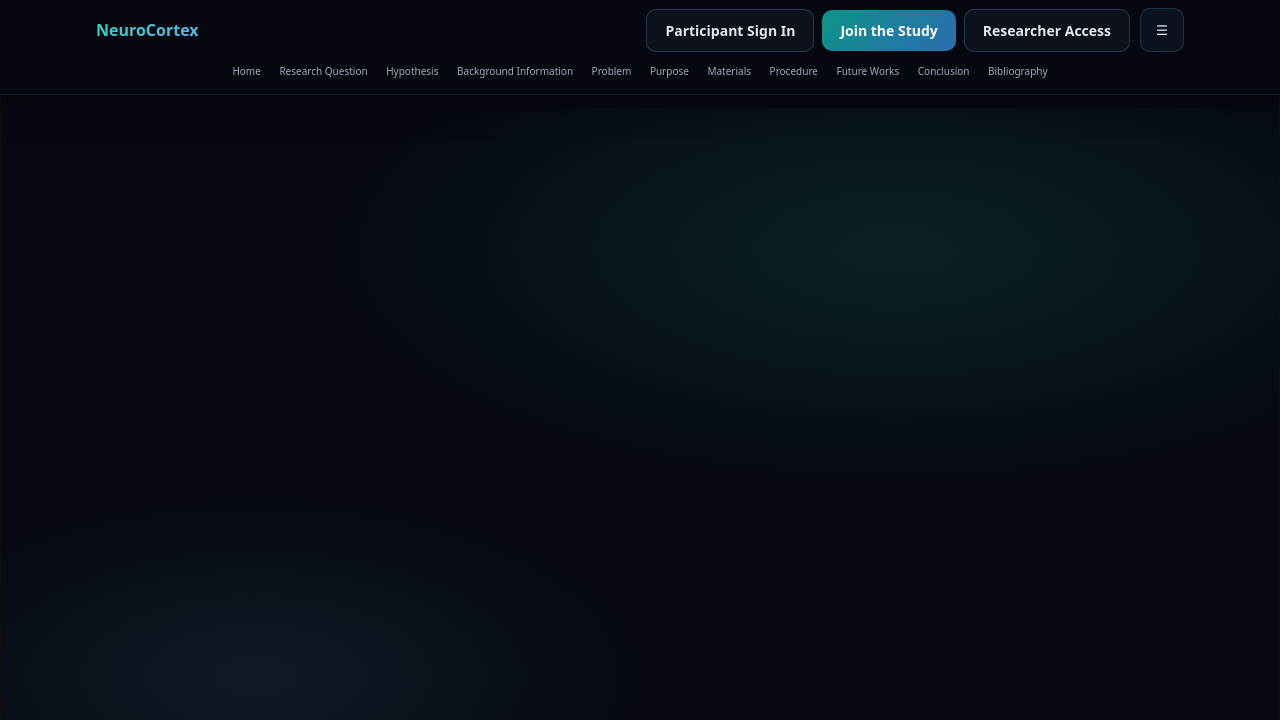
App routing › navigates Researcher Access to /researcher/sign-in
Click the button "Researcher Access": (1047, 30) [964, 8, 1130, 52]
(page scrolled)
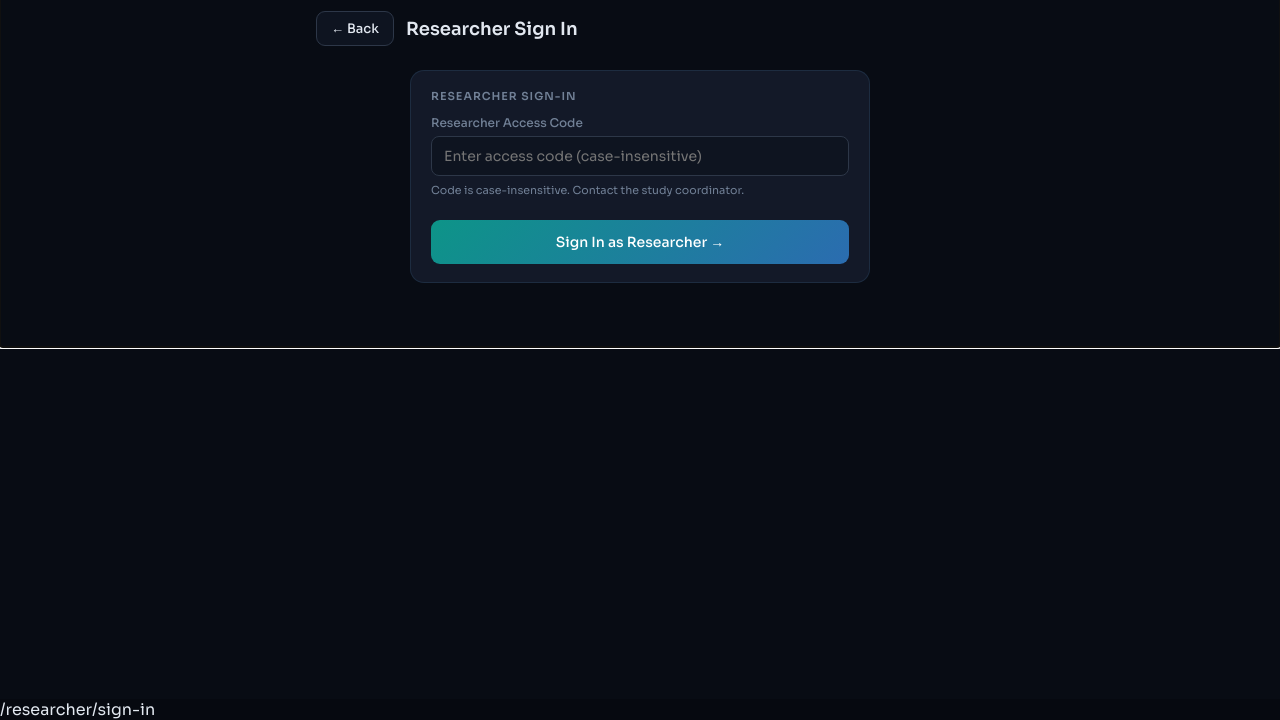
Expected: the text with test id "pathname" reads "/researcher/sign-in", [0, 699, 155, 719]
